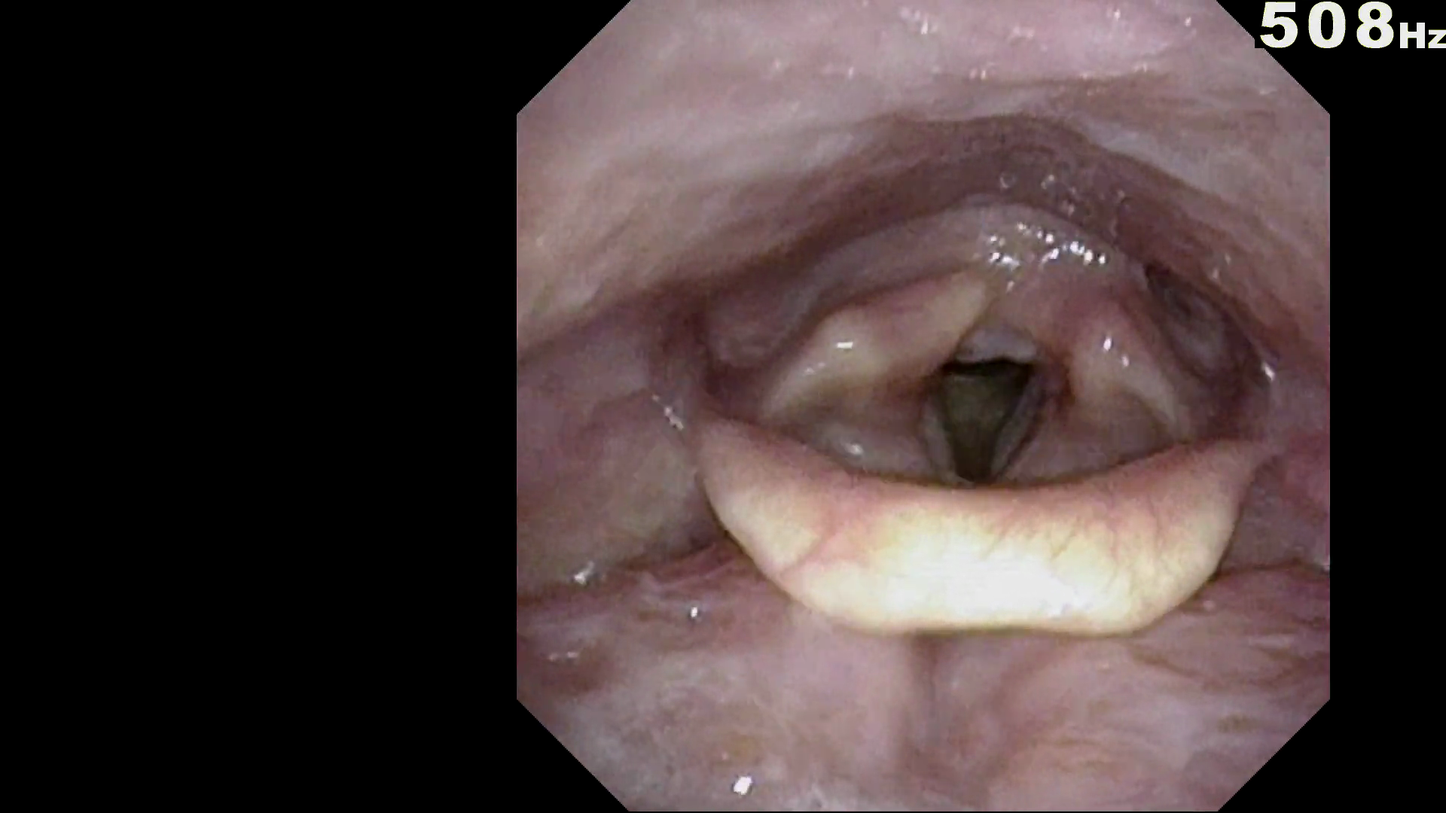epiglottis: (682, 376, 1279, 670)
trachea: (889, 326, 1074, 514)
